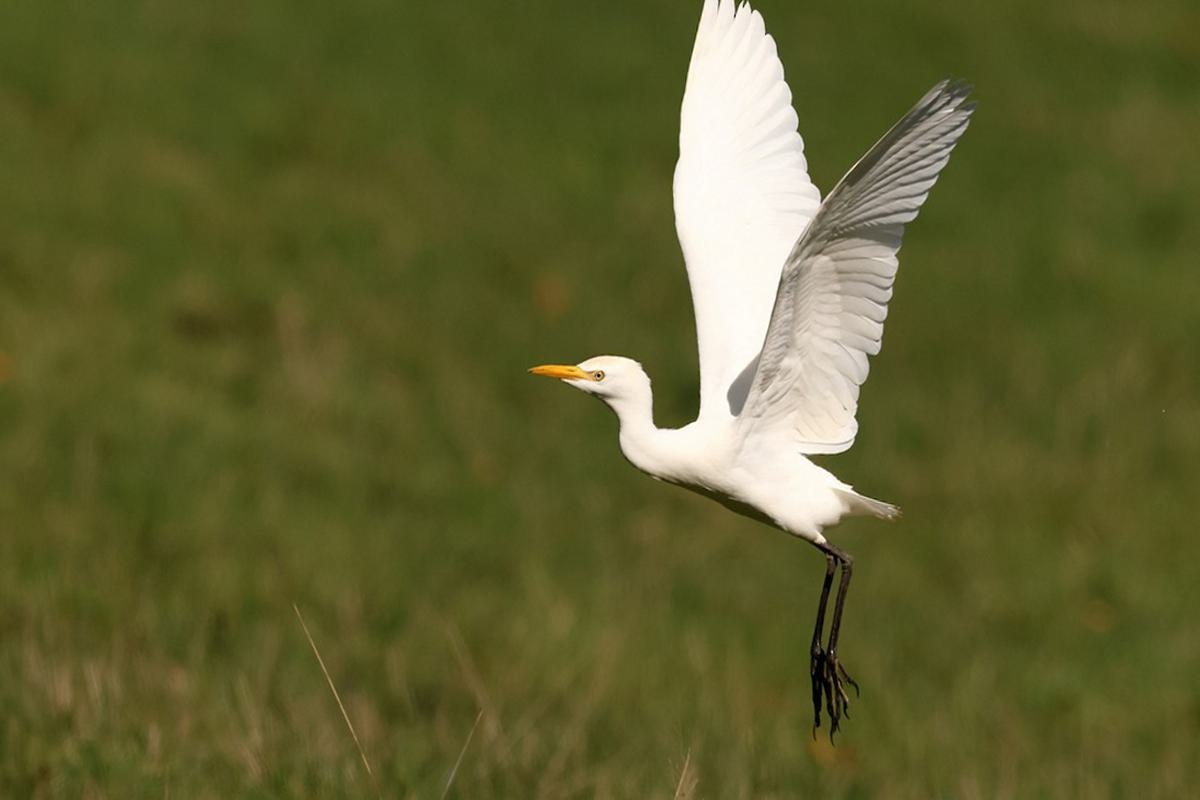egret: (516, 12, 942, 747)
